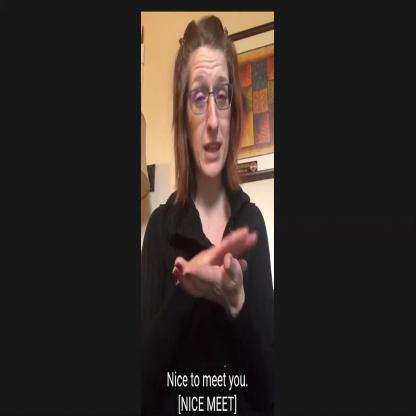NiceToMeetYou: (165, 198, 264, 318)
